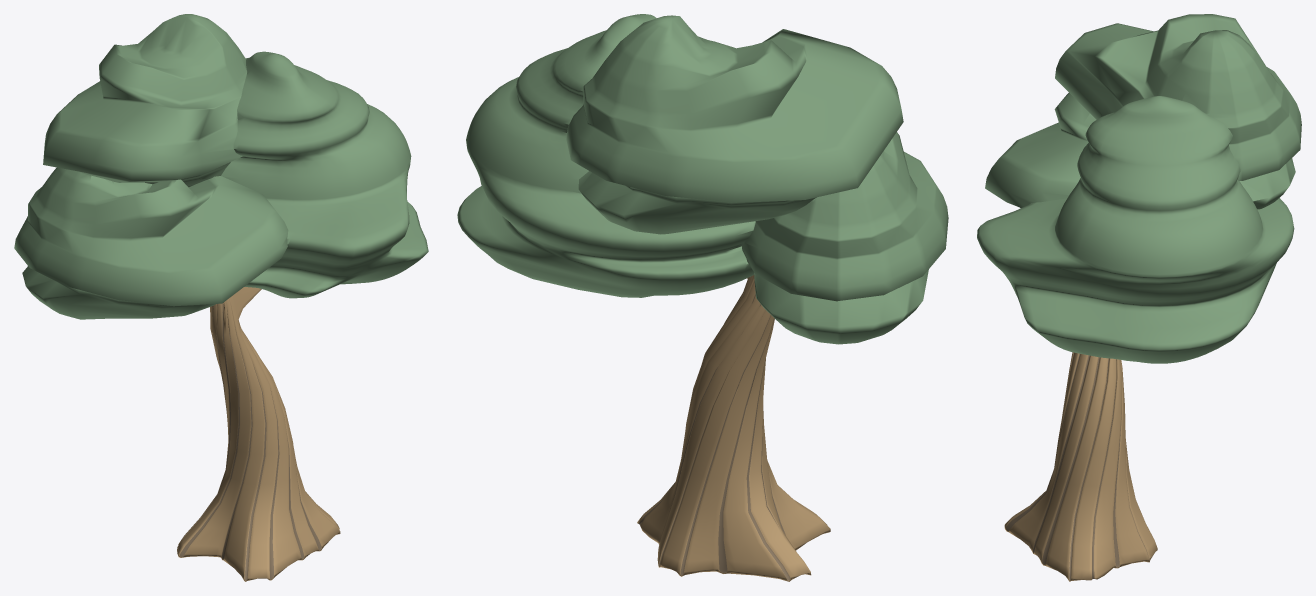
The model's file is Tree1.fbx.
3 views of the same model, side by side, from view 1: azimuth 30°, elevation 25°; view 2: azimuth 150°, elevation 25°; view 3: azimuth 270°, elevation 25° (orthographic). The views are drawn at different scales.
Visible parts, largest first — view 1: pSphere17, pCylinder105; view 2: pSphere17, pCylinder105; view 3: pSphere17, pCylinder105.
Boxes of the visible parts, bbox=[...] form: pSphere17: bbox=[14, 14, 428, 319]; pCylinder105: bbox=[177, 287, 340, 581]; pSphere17: bbox=[457, 14, 948, 344]; pCylinder105: bbox=[637, 275, 830, 581]; pSphere17: bbox=[977, 14, 1301, 363]; pCylinder105: bbox=[1004, 352, 1157, 581].
Bounding box in the file's own units: 8.01 × 9.95 × 5.74.
